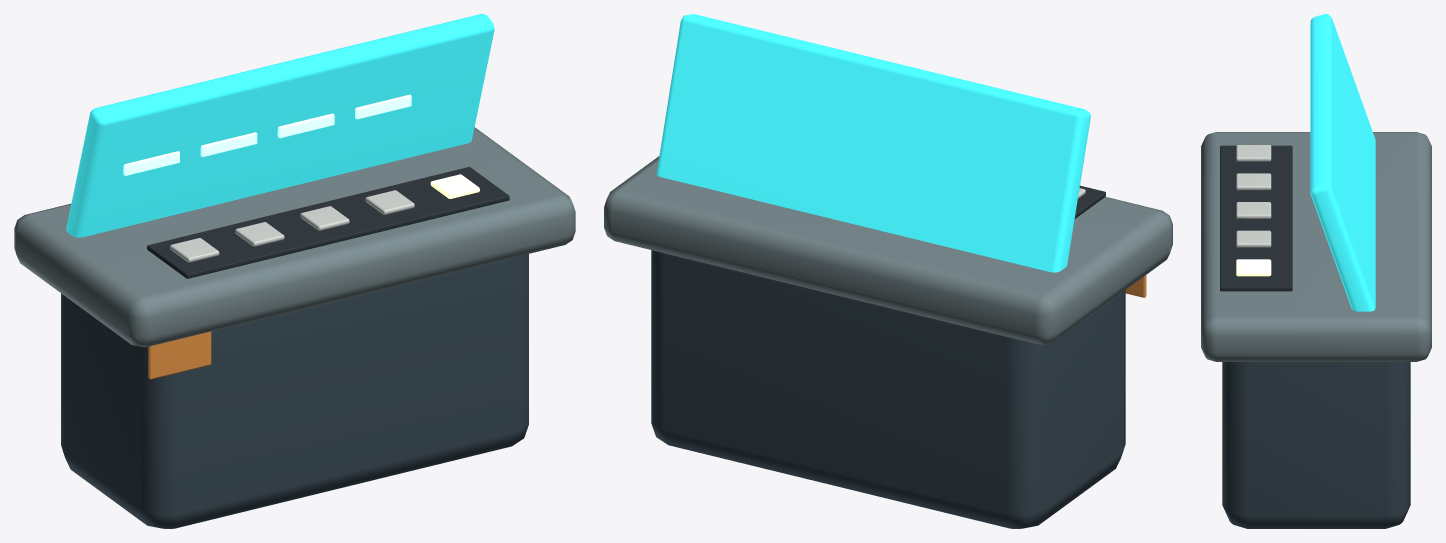
The model's file is console.glb.
3 renders of one model, left to right at view 1: azimuth 30°, elevation 25°; view 2: azimuth 150°, elevation 25°; view 3: azimuth 270°, elevation 25°, orthographic. The views are drawn at different scales.
Parts seen in each view (by area): view 1: console; view 2: console; view 3: console.
Part boxes in pixels (x1=…): console: x1=14, y1=14, x2=575, y2=528; console: x1=604, y1=14, x2=1172, y2=528; console: x1=1201, y1=14, x2=1431, y2=528.
Size of the model in its own units: 1.85 by 1.56 by 0.92.
